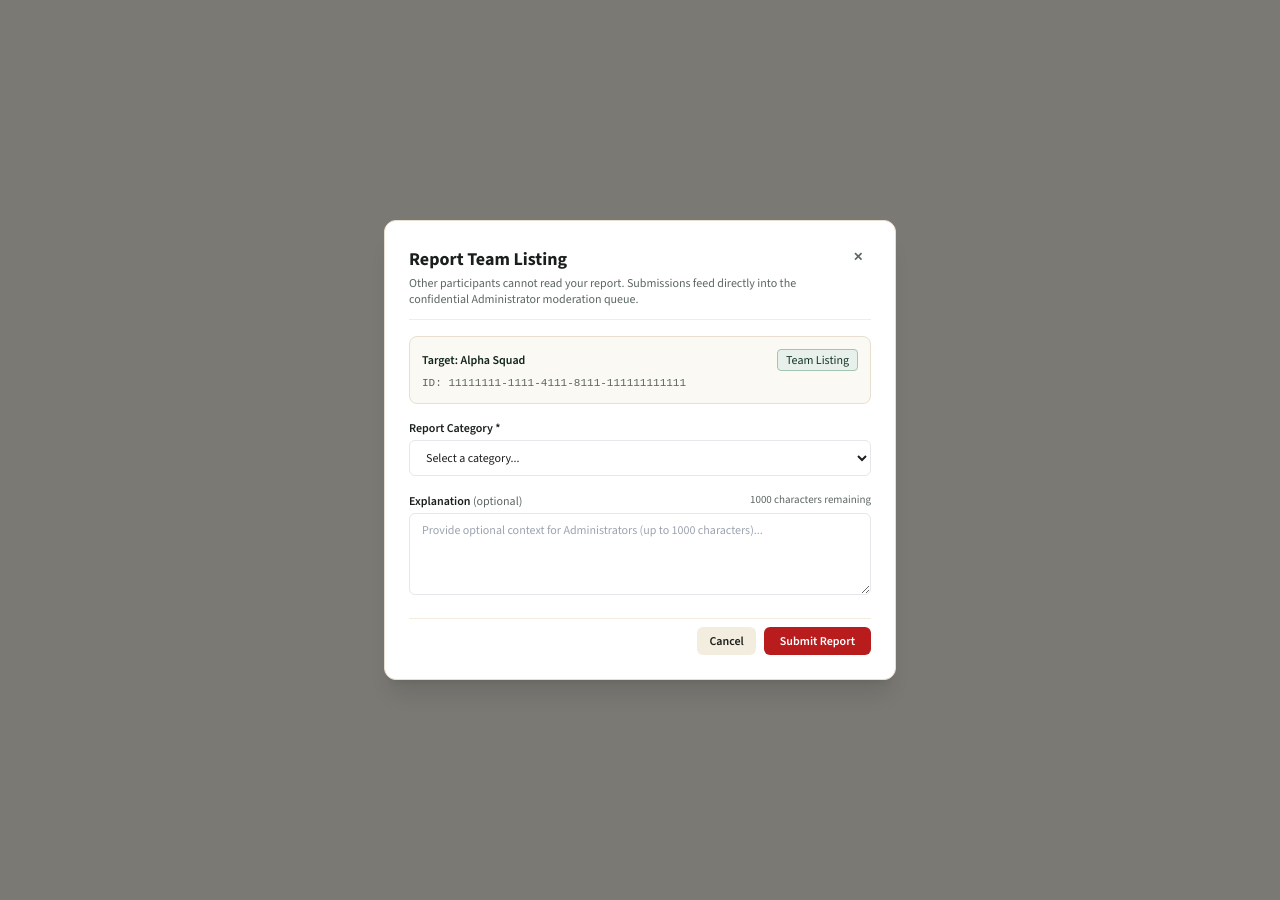
Test case: ReportAbuseModal component (US-025 / #232 / #237) › displays 429 rate-limit error message with retry hint while preserving form input (AC 3 / NR-010)
Select "Spam" in the dropdown labelled "Report Category *" at (640, 458), box [409,440,871,476]
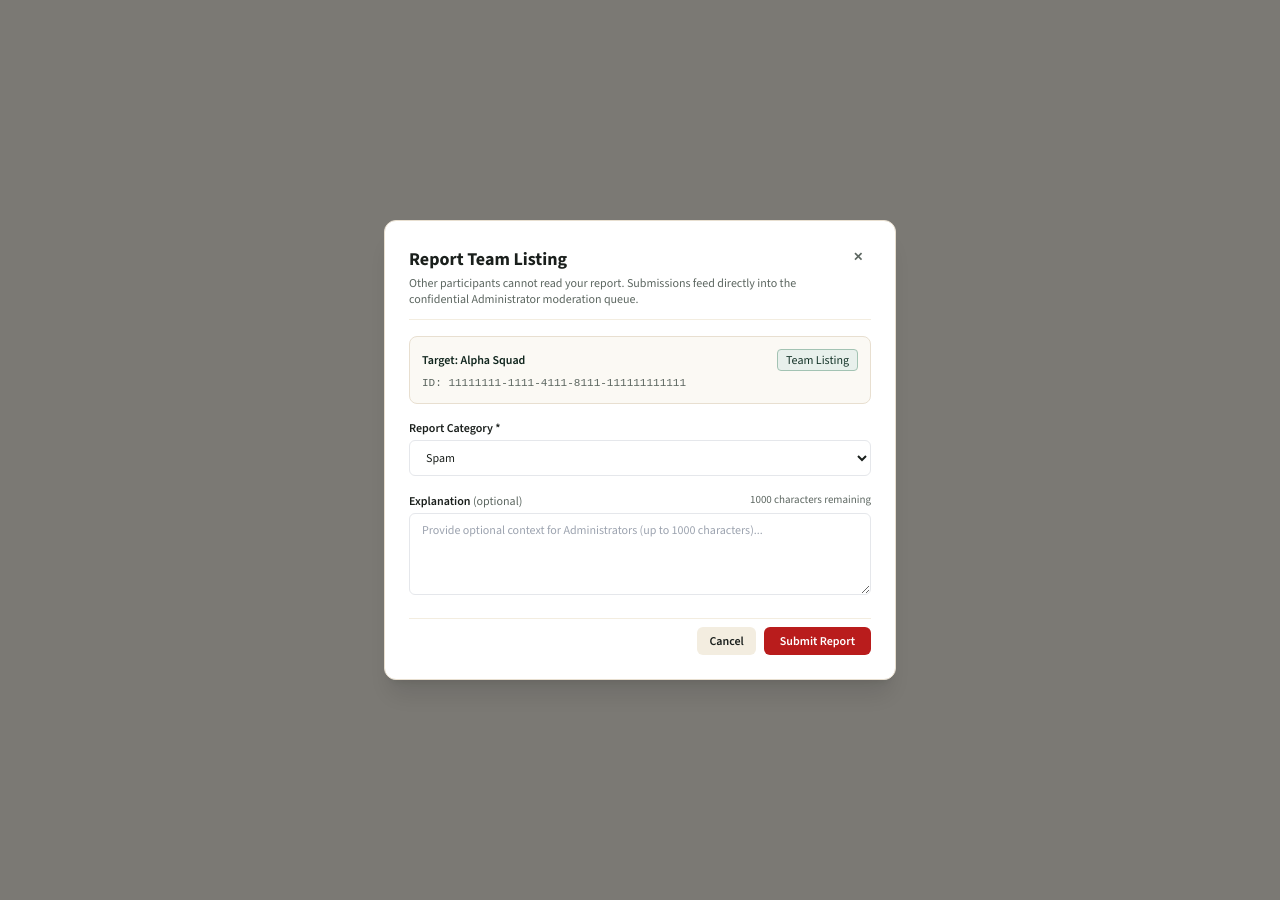
Replace the text in the text box labelled "Explanation (optional)" with "Mass spam messages." at (640, 554), box [409,513,871,595]
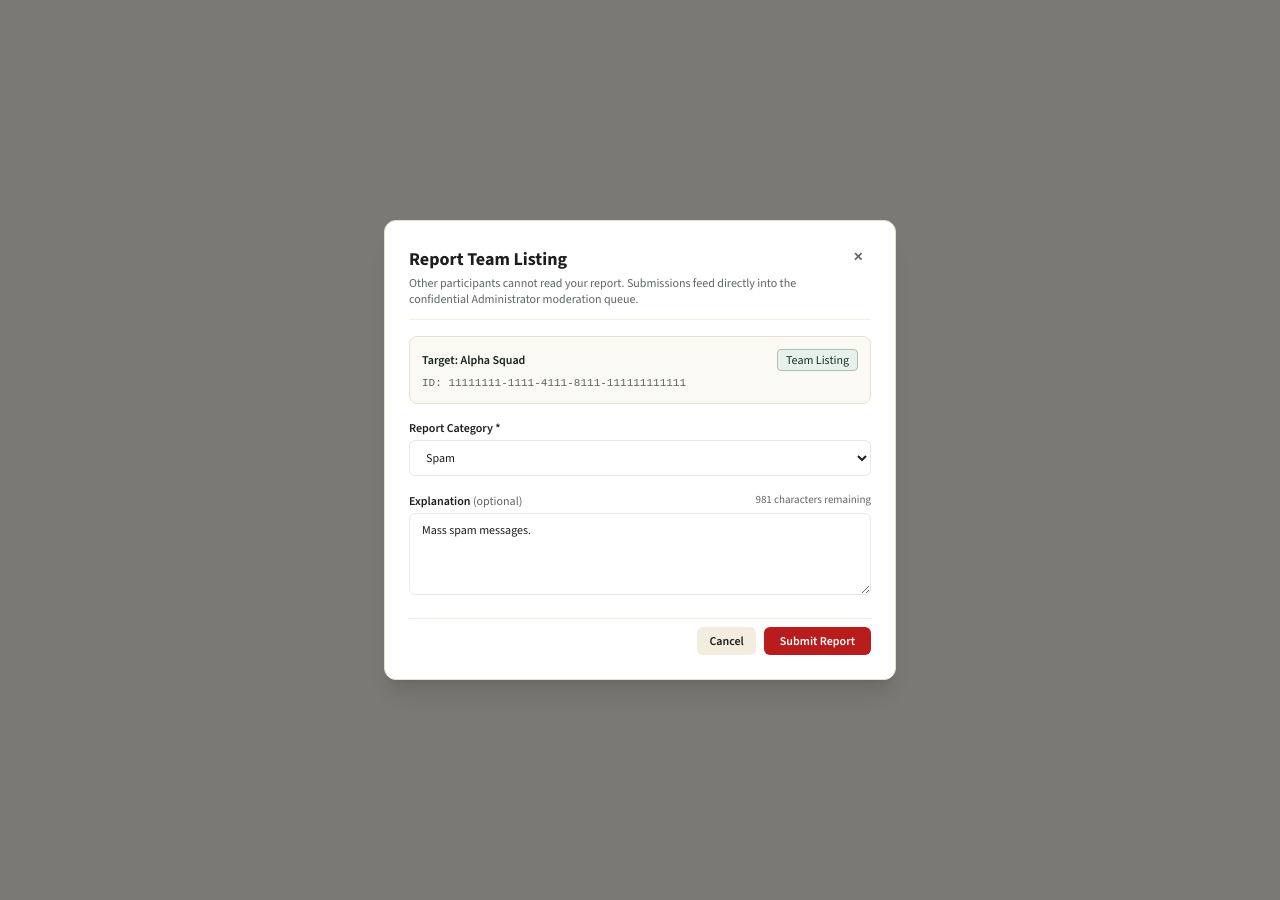
Click the button with test id "submit-report-btn".
click(817, 641)  # box [764,627,871,655]
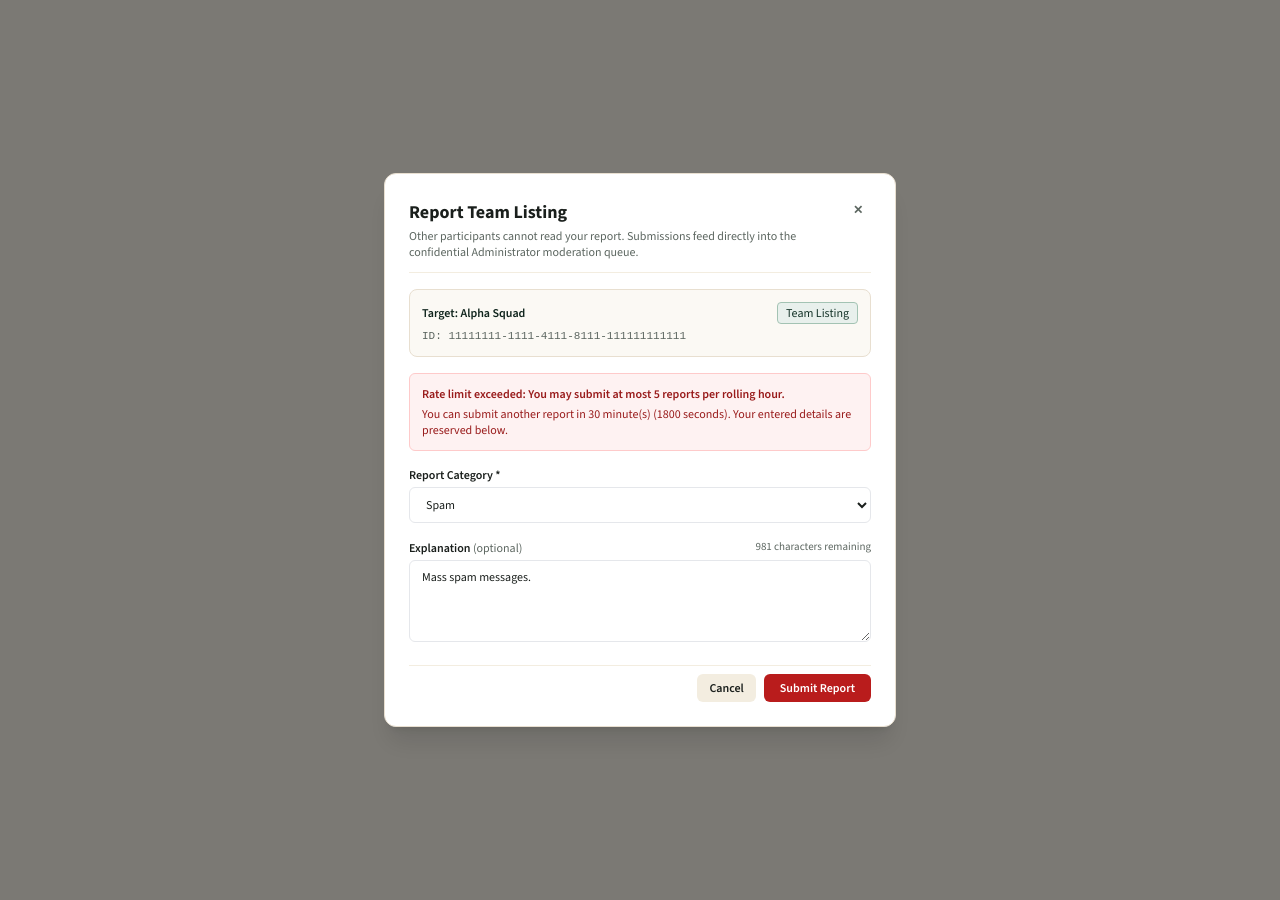
Expected: the message shows "Rate limit exceeded", [422,386,785,402]
Expected: the text with test id "report-retry-hint" shows "30 minute(s) (1800 seconds)", [422,406,858,438]
